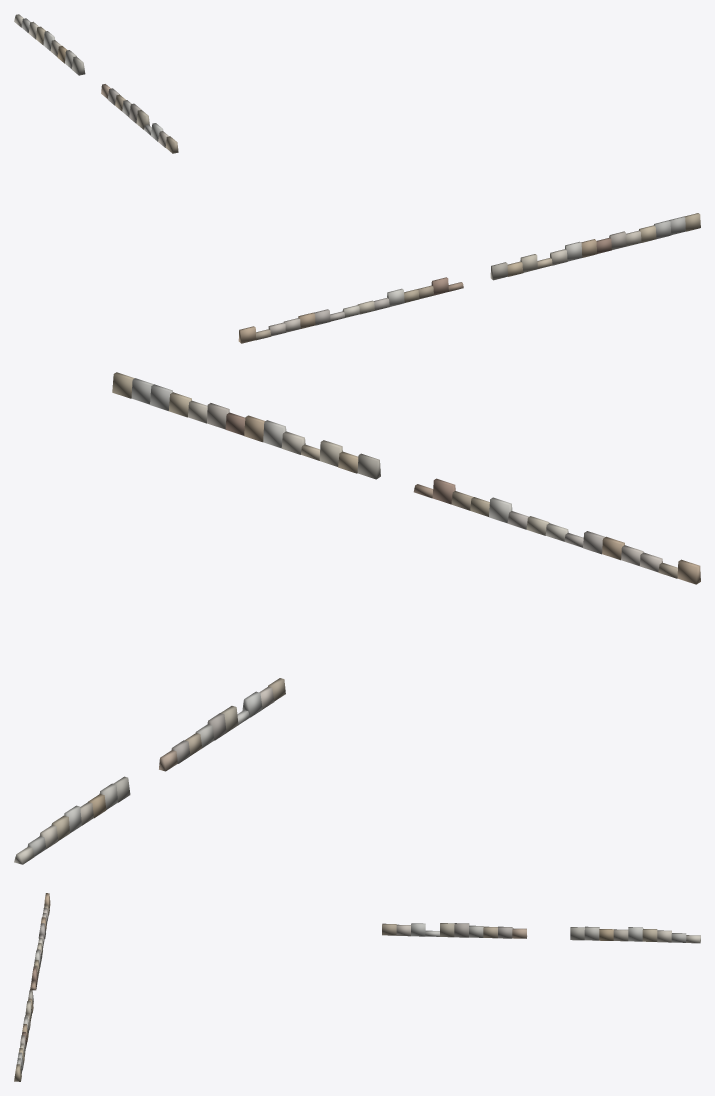
Rendered from farm_10_6_collision.glb.
3 renders of one model, top to bottom at view 1: azimuth 30°, elevation 25°; view 2: azimuth 150°, elevation 25°; view 3: azimuth 270°, elevation 25°, orthographic. The views are drawn at different scales.
Visible parts, largest first — view 1: geometry_0; view 2: geometry_0; view 3: geometry_0.
Boxes of the visible parts, x1,y1,x2,y2 form: geometry_0: (14, 14, 700, 343); geometry_0: (14, 372, 700, 864); geometry_0: (14, 893, 700, 1081).
Size of the model in its own units: 49.19 by 4.13 by 72.76.
